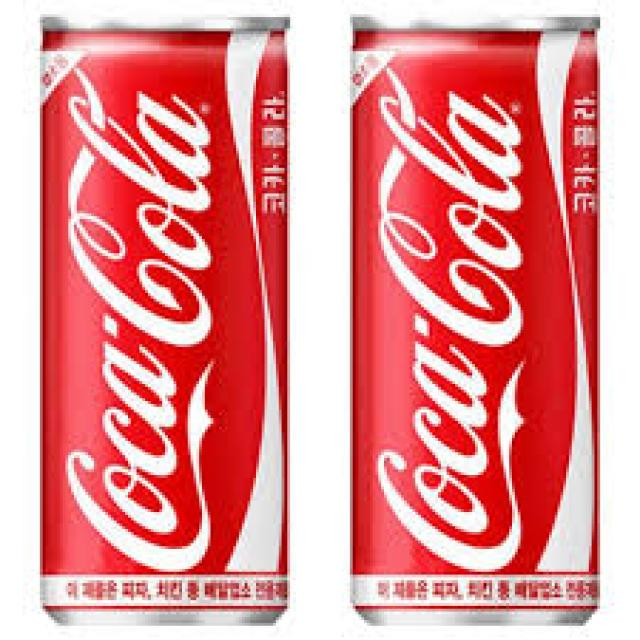Coca-Cola: (335, 3, 614, 640), (24, 2, 304, 634)
